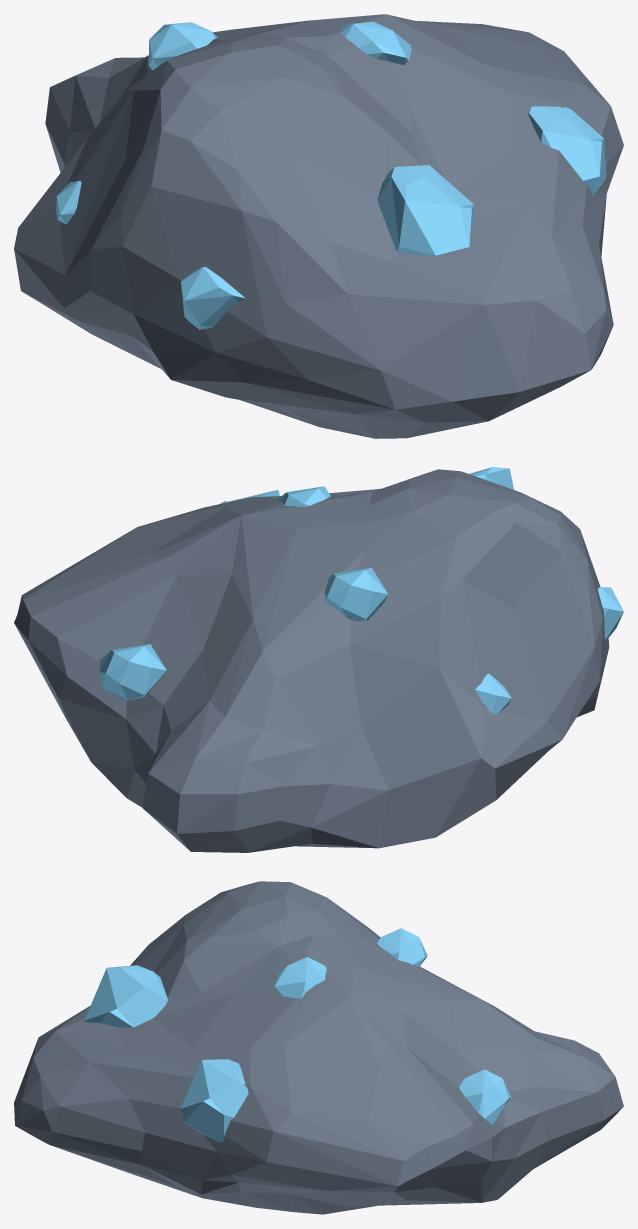
The model's file is stone0-tin.obj.
3 views of the same model, one above another, from view 1: azimuth 30°, elevation 25°; view 2: azimuth 150°, elevation 25°; view 3: azimuth 270°, elevation 25° (orthographic). The views are drawn at different scales.
Parts seen in each view (by area): view 1: Sphere, Sphere.001, Sphere.002_Sphere.001, Sphere.007_Sphere.001, Sphere.005_Sphere.001, Sphere.004_Sphere.001, Sphere.006_Sphere.001; view 2: Sphere, Sphere.003_Sphere.001, Sphere.004_Sphere.001, Sphere.006_Sphere.001, Sphere.007_Sphere.001, Sphere.005_Sphere.001, Sphere.001; view 3: Sphere, Sphere.002_Sphere.001, Sphere.001, Sphere.003_Sphere.001, Sphere.005_Sphere.001, Sphere.004_Sphere.001.
Boxes of the visible parts, x1=… form: Sphere: x1=14, y1=14, x2=623, y2=438; Sphere.001: x1=377, y1=165, x2=474, y2=256; Sphere.002_Sphere.001: x1=528, y1=106, x2=606, y2=195; Sphere.007_Sphere.001: x1=181, y1=267, x2=245, y2=329; Sphere.005_Sphere.001: x1=340, y1=21, x2=411, y2=64; Sphere.004_Sphere.001: x1=148, y1=22, x2=217, y2=70; Sphere.006_Sphere.001: x1=56, y1=181, x2=81, y2=224; Sphere: x1=14, y1=469, x2=609, y2=852; Sphere.003_Sphere.001: x1=99, y1=644, x2=166, y2=700; Sphere.004_Sphere.001: x1=324, y1=567, x2=388, y2=621; Sphere.006_Sphere.001: x1=475, y1=673, x2=511, y2=714; Sphere.007_Sphere.001: x1=597, y1=587, x2=623, y2=639; Sphere.005_Sphere.001: x1=276, y1=486, x2=330, y2=507; Sphere.001: x1=469, y1=467, x2=513, y2=489; Sphere: x1=14, y1=881, x2=623, y2=1214; Sphere.002_Sphere.001: x1=180, y1=1059, x2=248, y2=1142; Sphere.001: x1=84, y1=965, x2=167, y2=1027; Sphere.003_Sphere.001: x1=459, y1=1069, x2=510, y2=1124; Sphere.005_Sphere.001: x1=275, y1=957, x2=326, y2=998; Sphere.004_Sphere.001: x1=376, y1=928, x2=427, y2=966.
Size of the model in its own units: 2.49 by 1.53 by 3.07.
